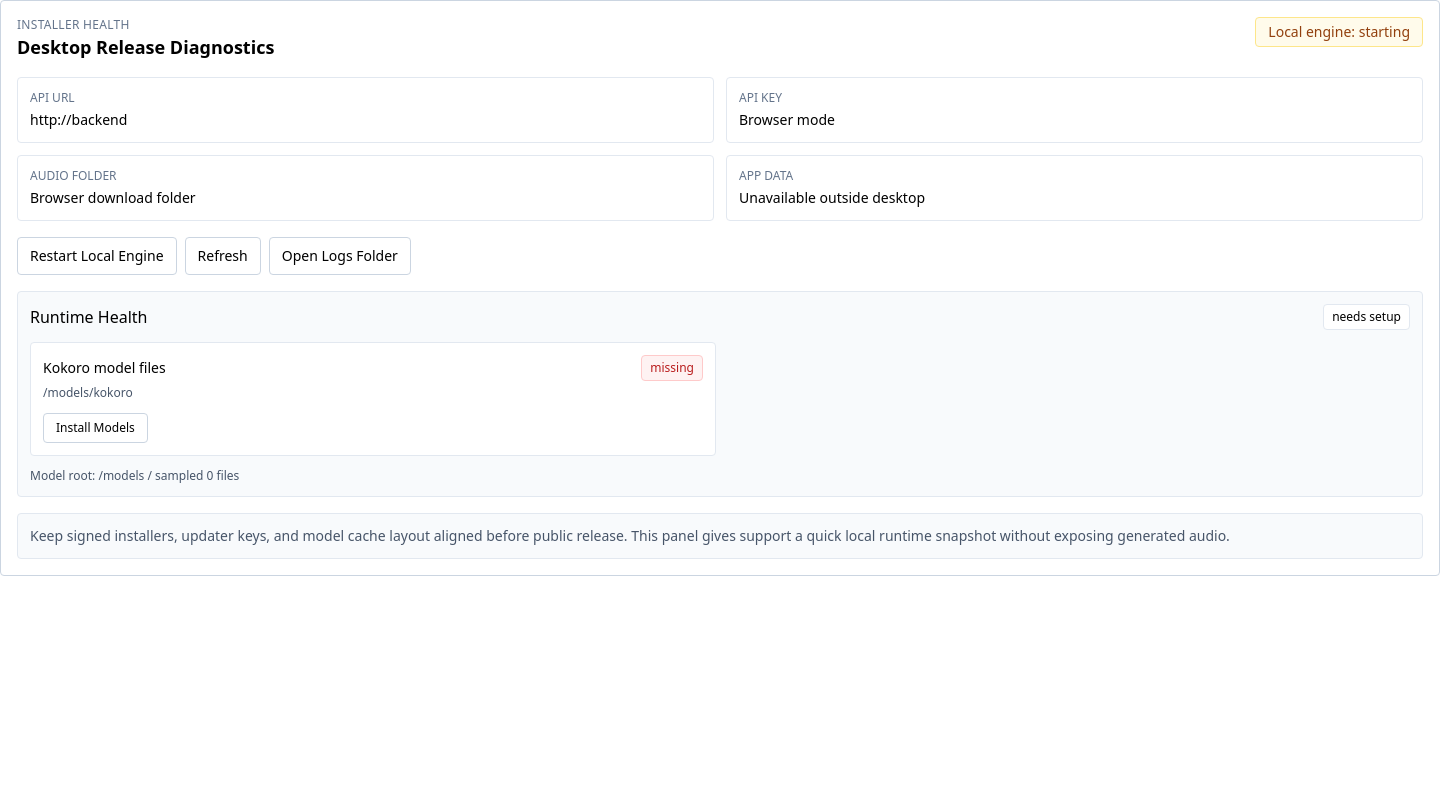
Test: ReleaseDiagnosticsPanel › polls setup status and shows progress after Kokoro provisioning starts
Click the button "Install Models" at (95, 428), box x1=43 y1=413 x2=148 y2=443
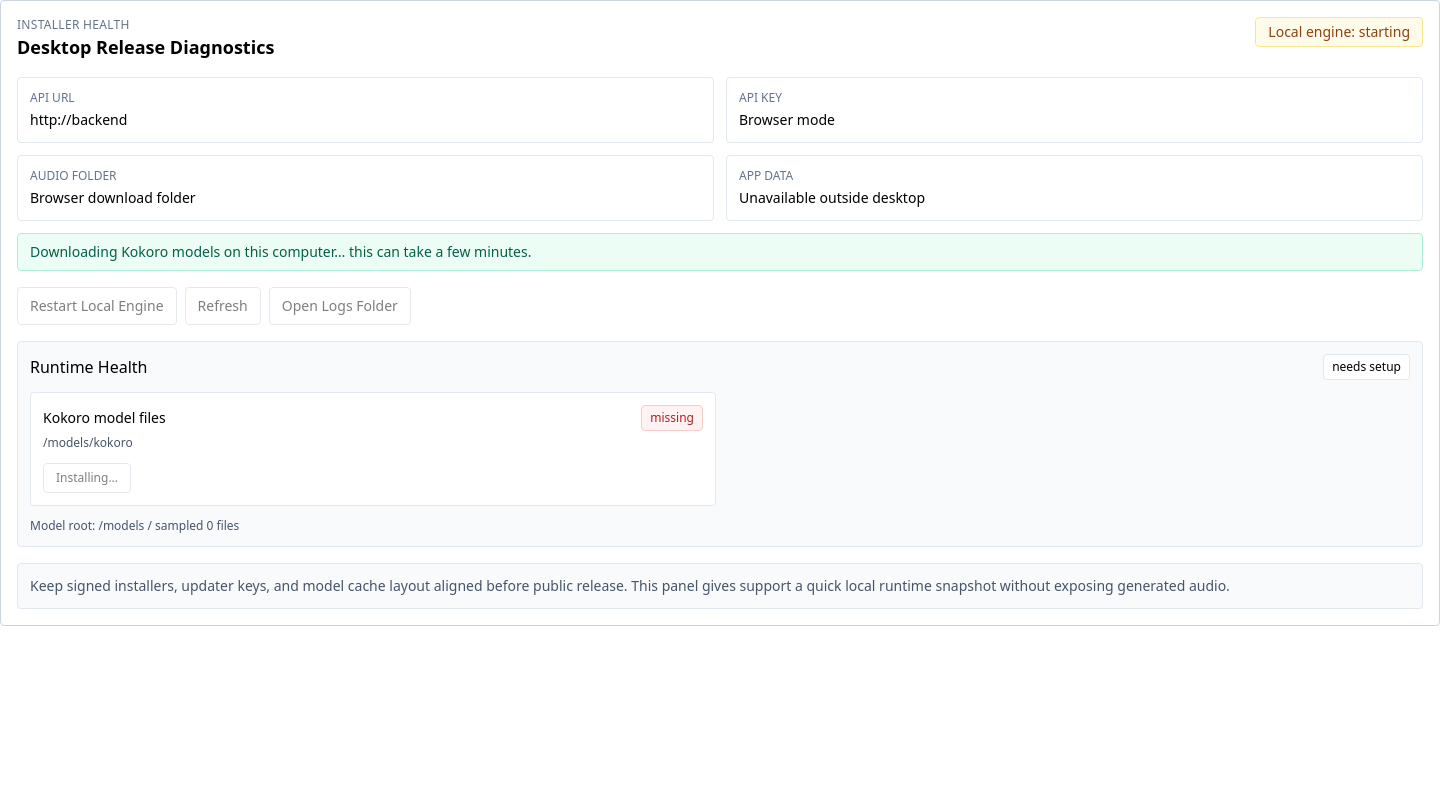
Result: the button "Installing..." is shown at x1=43 y1=463 x2=131 y2=493
